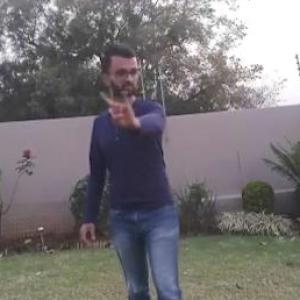takeoff-hand: (100, 84, 143, 131)
